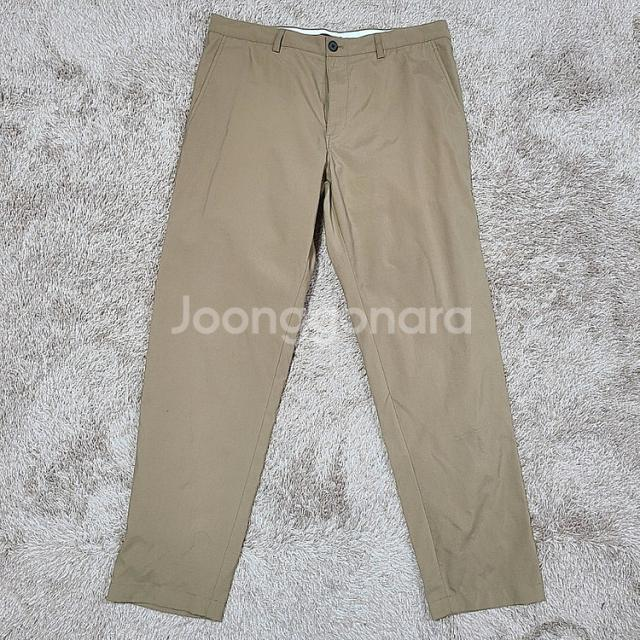long-pants: (106, 15, 546, 625)
